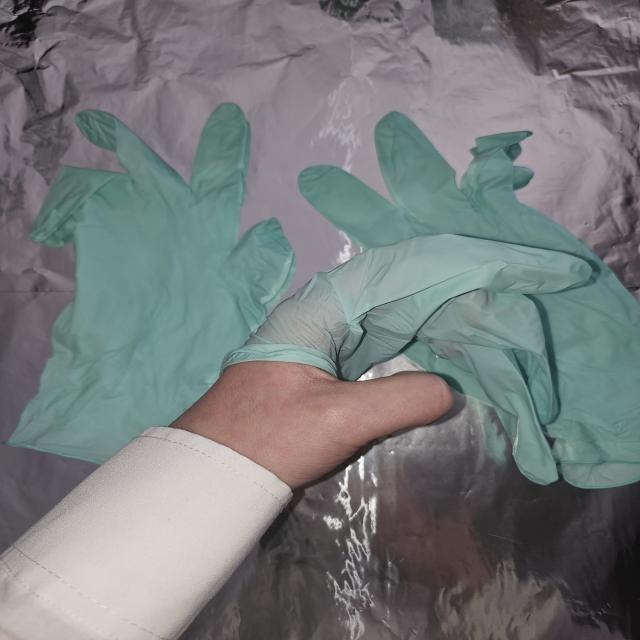glove_partial: (166, 233, 596, 490)
